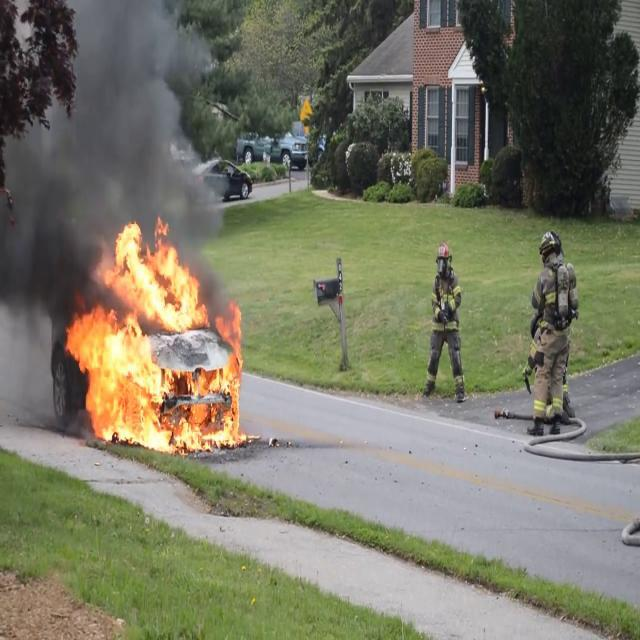Fire: (65, 221, 244, 454)
Smoke: (0, 1, 225, 298)
